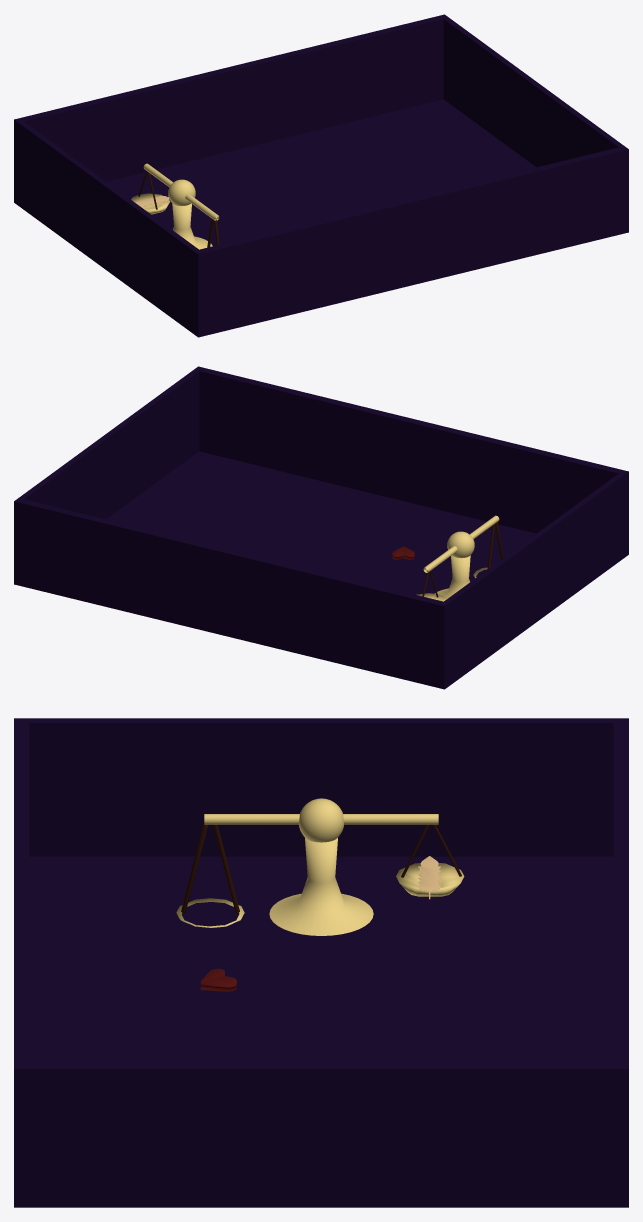
File: TEMPLO.fbx
3 renders of one model, top to bottom at view 1: azimuth 30°, elevation 25°; view 2: azimuth 150°, elevation 25°; view 3: azimuth 270°, elevation 25°, orthographic. The views are drawn at different scales.
Visible parts, largest first — view 1: Cube, Cylinder, Sphere, Cylinder.001; view 2: Cube, Cylinder, Sphere, Cylinder.001; view 3: Cube, Cylinder, Cylinder.001, Sphere, Cube.002, Cylinder.003, Cube.003.
Part boxes in pixels (bbox=[...]): Cube: bbox=[14, 14, 628, 337]; Cylinder: bbox=[172, 203, 212, 249]; Sphere: bbox=[168, 179, 195, 206]; Cylinder.001: bbox=[143, 163, 219, 220]; Cube: bbox=[14, 366, 628, 689]; Cylinder: bbox=[434, 555, 470, 598]; Sphere: bbox=[447, 531, 474, 558]; Cylinder.001: bbox=[423, 515, 499, 572]; Cube: bbox=[14, 718, 628, 1207]; Cylinder: bbox=[269, 838, 373, 935]; Cylinder.001: bbox=[204, 814, 438, 824]; Sphere: bbox=[299, 798, 343, 842]; Cube.002: bbox=[396, 862, 464, 896]; Cylinder.003: bbox=[181, 822, 239, 912]; Cube.003: bbox=[418, 856, 440, 899].
Size of the model in its own units: 3601 by 683 by 2669.
